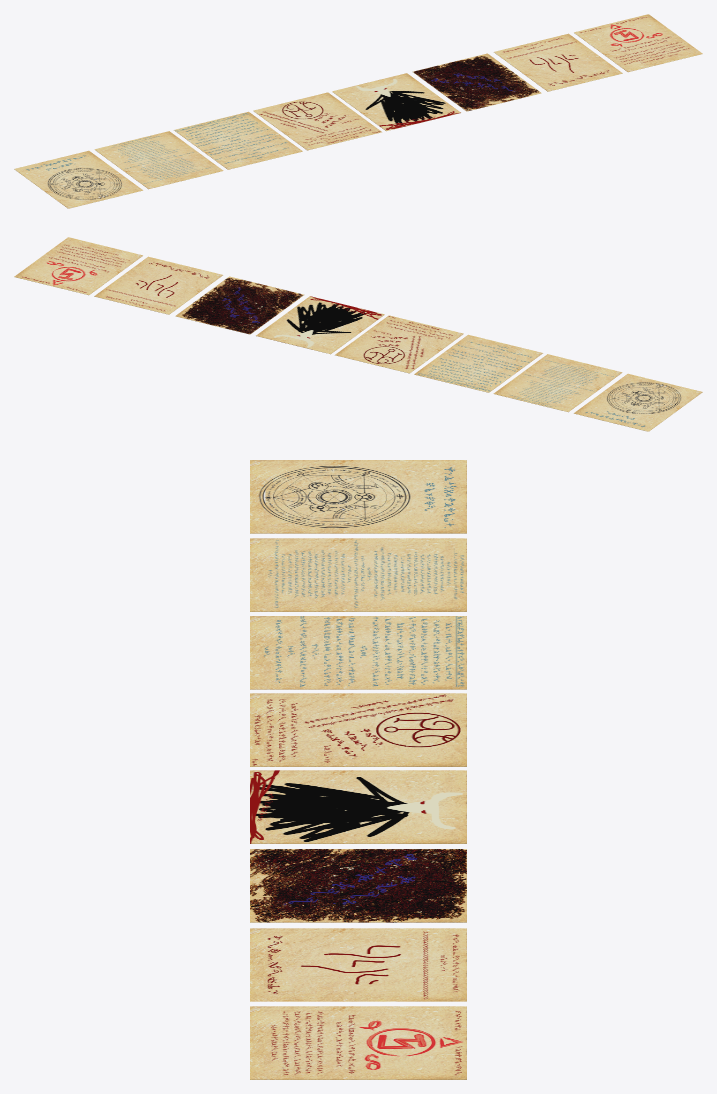
File: Papers.fbx
The picture shows the model from 3 angles, top to bottom: view 1: azimuth 30°, elevation 25°; view 2: azimuth 150°, elevation 25°; view 3: azimuth 270°, elevation 25°; orthographic projection. The views are drawn at different scales.
Visible parts, largest first — view 1: pasted__pCube54 (×7), pCube54; view 2: pasted__pCube54 (×7), pCube54; view 3: pasted__pCube54 (×7), pCube54.
Boxes of the visible parts, box(x1,y1,x2,y2) form: pasted__pCube54 (×7): box(14, 14, 702, 208); pCube54: box(94, 131, 223, 189); pasted__pCube54 (×7): box(14, 237, 702, 431); pCube54: box(493, 354, 622, 412); pasted__pCube54 (×7): box(250, 460, 466, 1079); pCube54: box(250, 538, 466, 611).
Bounding box in the file's own units: 8.01 × 0.00181 × 1.19.
Materials: 8 (8 with a texture image).
